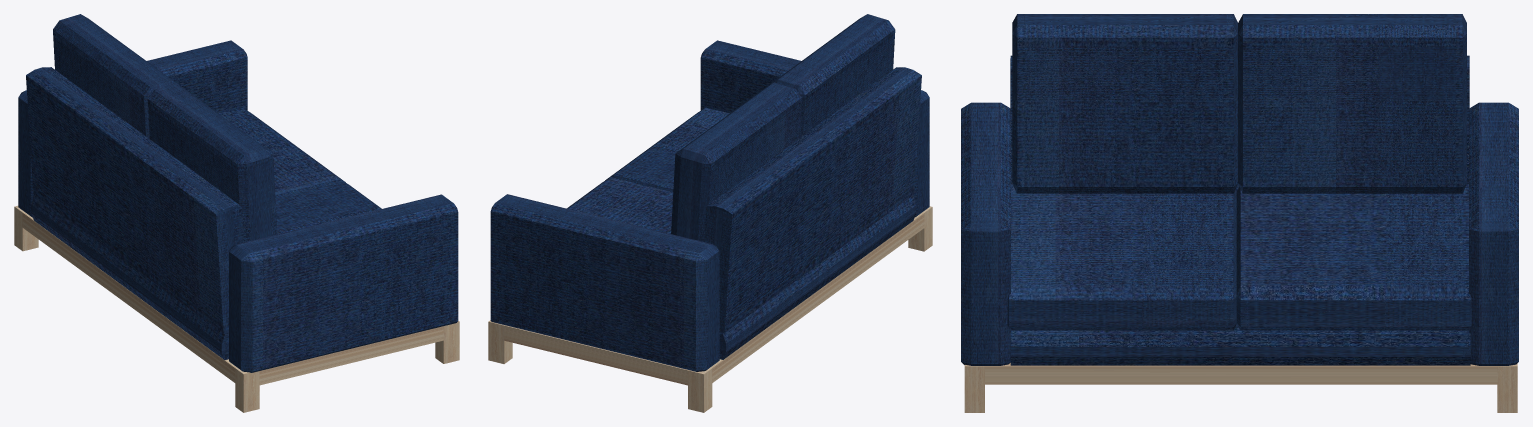
The model's file is armchair1.glb.
3 views of the same model, side by side, from view 1: azimuth 30°, elevation 25°; view 2: azimuth 150°, elevation 25°; view 3: azimuth 270°, elevation 25° (orthographic). The views are drawn at different scales.
Parts seen in each view (by area): view 1: Cube.005, Cube.007, Cube.010, Cube.011, Cube.004, Cube.006, Cube.003, Cube, Cube.012, Cube.009, Cube.002; view 2: Cube.004, Cube.007, Cube.011, Cube.010, Cube.005, Cube.006, Cube.003, Cube.001, Cube.009, Cube.012, Cube.002; view 3: Cube.011, Cube.010, Cube.009, Cube.012, Cube.006, Cube.004, Cube.005, Cube.001, Cube, Cube.007.
Part boxes in pixels (left/top/right/bottom): Cube.005: left=229, top=194, right=458, bottom=372; Cube.007: left=26, top=67, right=243, bottom=333; Cube.010: left=147, top=83, right=277, bottom=242; Cube.011: left=53, top=14, right=179, bottom=138; Cube.004: left=18, top=40, right=247, bottom=217; Cube.006: left=31, top=195, right=228, bottom=359; Cube.003: left=14, top=205, right=236, bottom=383; Cube: left=259, top=321, right=459, bottom=385; Cube.012: left=275, top=179, right=381, bottom=234; Cube.009: left=218, top=108, right=345, bottom=194; Cube.002: left=235, top=367, right=259, bottom=412; Cube.004: left=490, top=194, right=719, bottom=371; Cube.007: left=704, top=67, right=921, bottom=333; Cube.011: left=671, top=82, right=801, bottom=241; Cube.010: left=770, top=14, right=895, bottom=137; Cube.005: left=700, top=40, right=929, bottom=217; Cube.006: left=719, top=195, right=916, bottom=359; Cube.003: left=688, top=212, right=924, bottom=412; Cube.001: left=488, top=320, right=688, bottom=385; Cube.009: left=567, top=177, right=673, bottom=233; Cube.012: left=605, top=107, right=729, bottom=192; Cube.002: left=908, top=206, right=932, bottom=251; Cube.011: left=1238, top=14, right=1466, bottom=193; Cube.010: left=1012, top=14, right=1237, bottom=193; Cube.009: left=1236, top=184, right=1471, bottom=330; Cube.012: left=1007, top=184, right=1236, bottom=330; Cube.006: left=1010, top=324, right=1470, bottom=365; Cube.004: left=1469, top=102, right=1518, bottom=365; Cube.005: left=961, top=102, right=1010, bottom=365; Cube.001: left=985, top=363, right=1517, bottom=412; Cube: left=964, top=365, right=984, bottom=412; Cube.007: left=1010, top=55, right=1469, bottom=191.
Bounding box in the file's own units: 4.13 × 4.15 × 7.33.
Materials: 12 (12 with a texture image).
